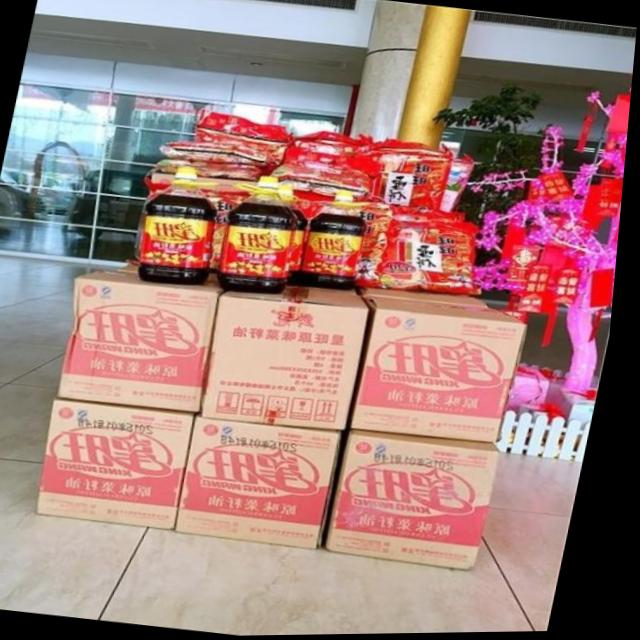box: (358, 296, 533, 446), (333, 431, 505, 573), (62, 270, 228, 415), (211, 287, 374, 429), (185, 417, 353, 551), (43, 399, 204, 528), (366, 288, 490, 307)
